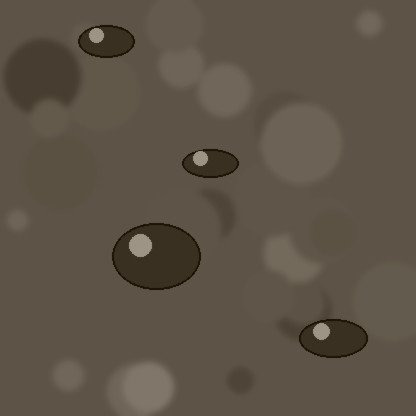gota: (112, 225, 200, 295), (299, 320, 367, 360), (78, 26, 134, 60), (182, 150, 238, 180)
